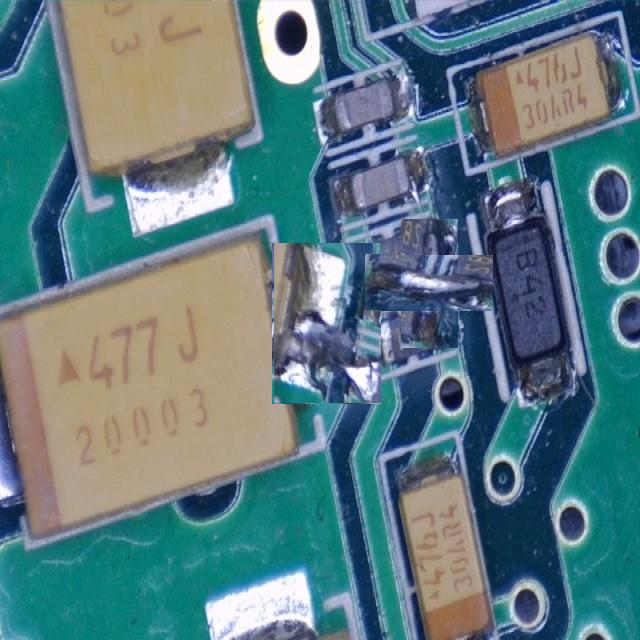Short_circuit: (273, 244, 381, 402), (366, 255, 492, 310)
